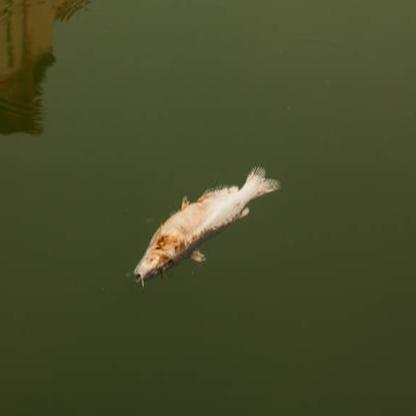deceased fish: (116, 163, 284, 287)
